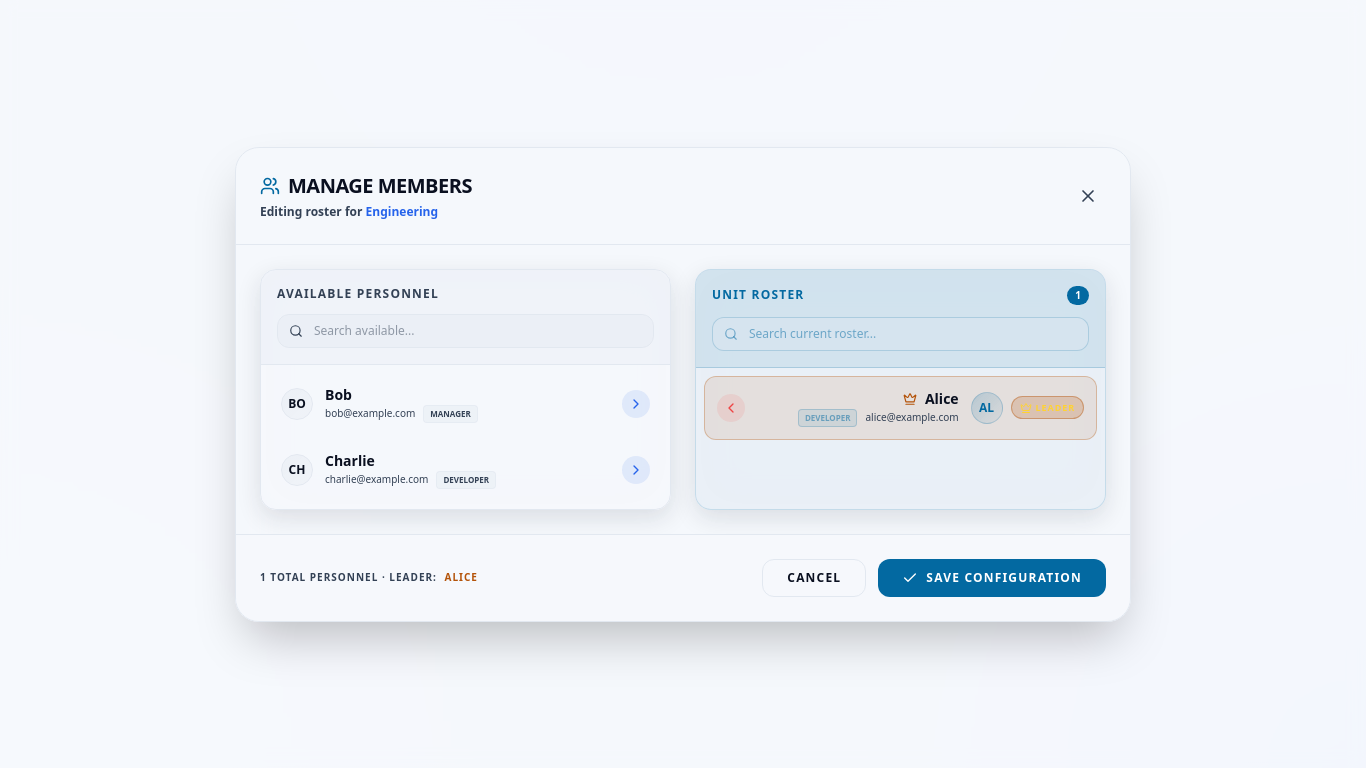
Test: MemberManagementModal › toggles leader off when same leader button is clicked again
// Already leader → click "Remove leader"
What coordinates should you click on to do the following:
click the button titled "Remove leader"
I would click on:
 (1047, 408)
Its box is [1011,396,1084,419].
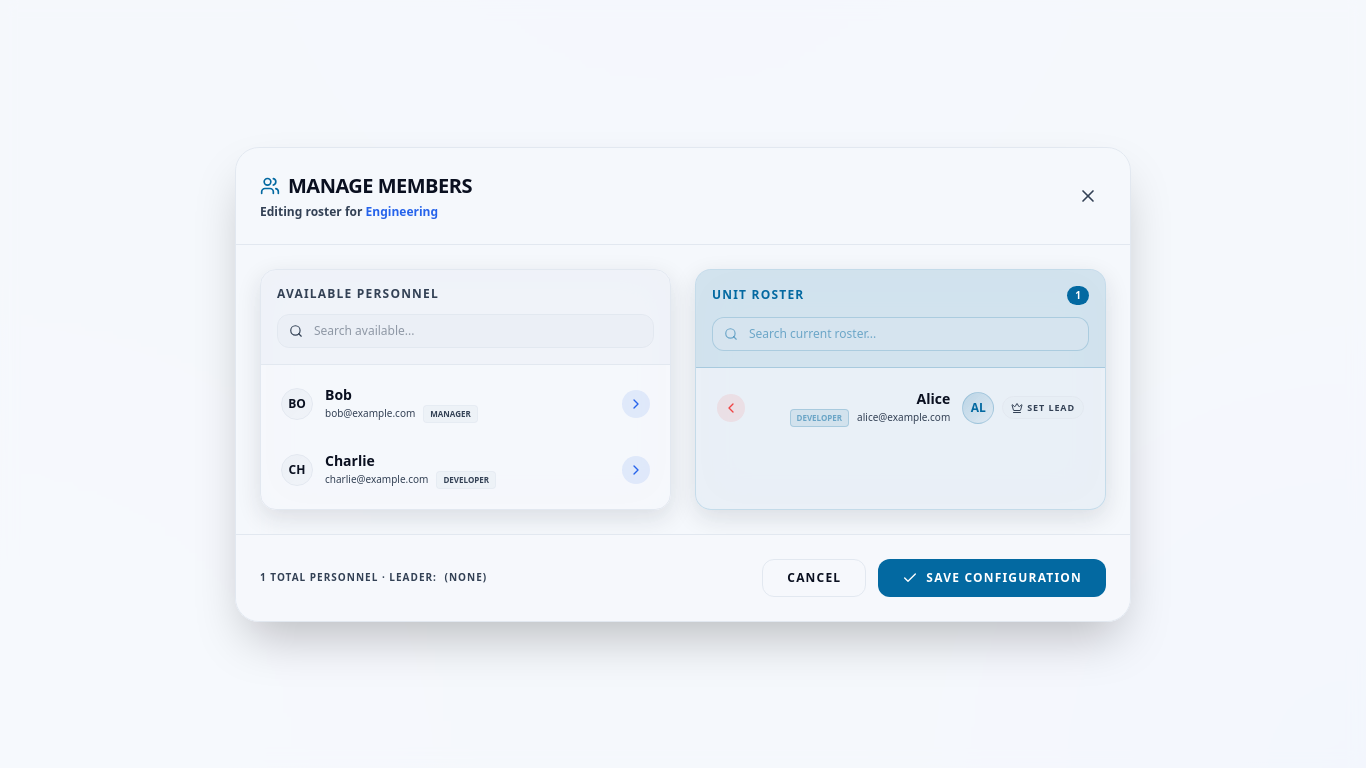
expect the text "(none)" is shown: met, box [444,570,487,584]
